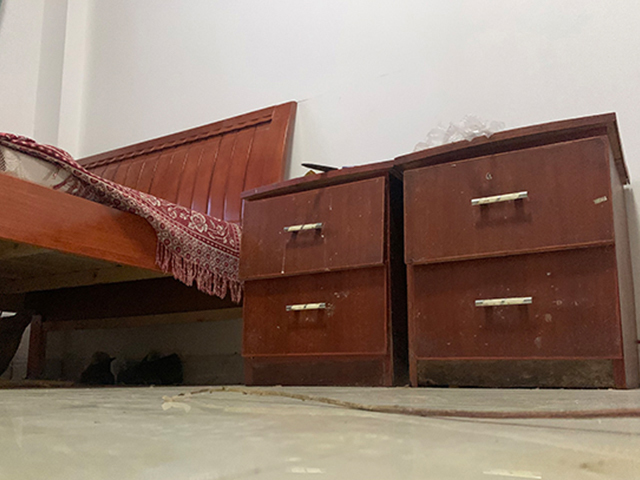bed: (1, 99, 297, 382)
cabinet: (395, 109, 635, 388), (234, 158, 395, 391)
